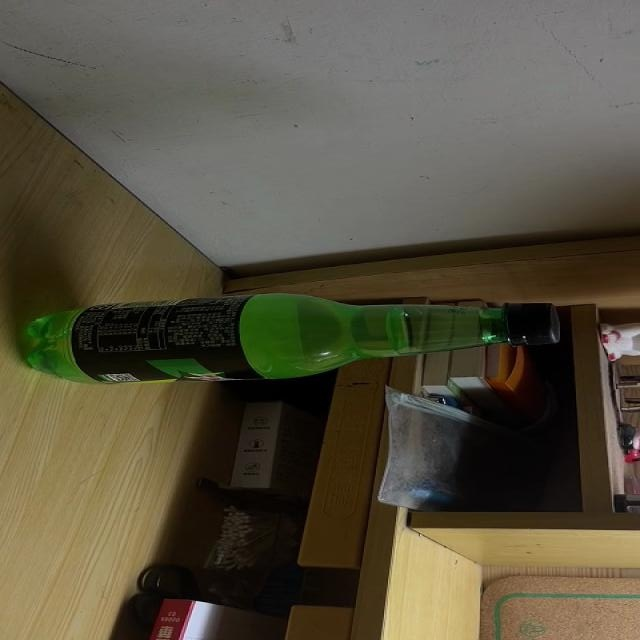Mountain-Dew: (21, 291, 564, 386)
